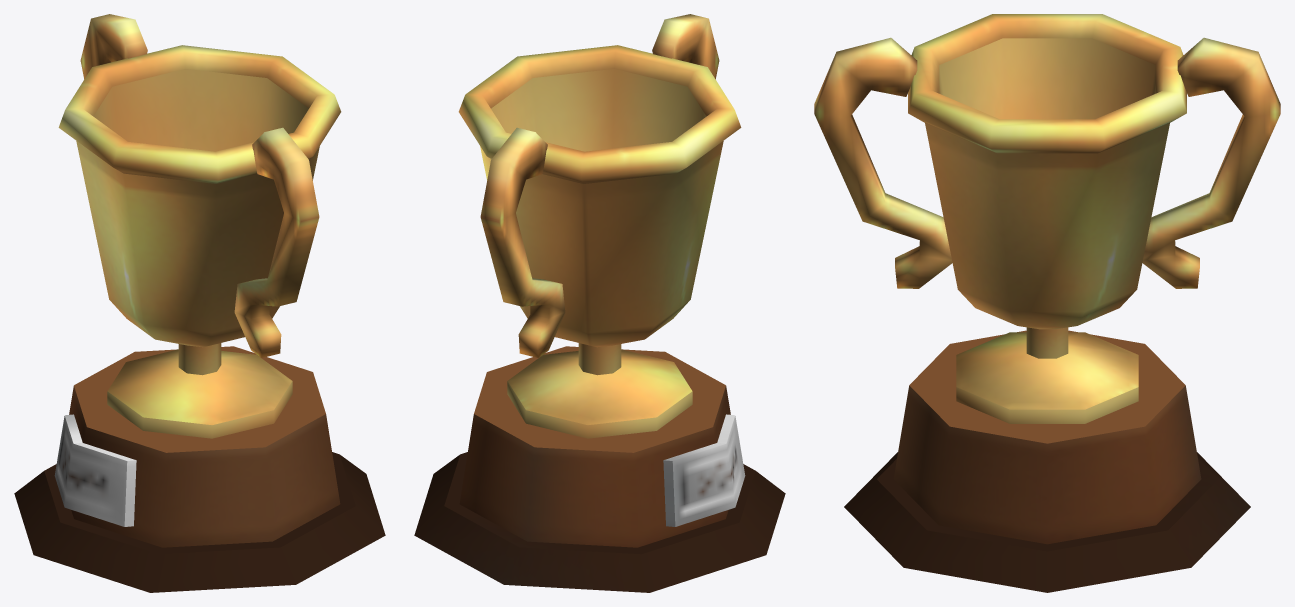
File: trophy.FBX
3 views of the same model, side by side, from view 1: azimuth 30°, elevation 25°; view 2: azimuth 150°, elevation 25°; view 3: azimuth 270°, elevation 25° (orthographic). The views are drawn at different scales.
Visible parts, largest first — view 1: trophy; view 2: trophy; view 3: trophy.
Boxes of the visible parts, x1,y1,x2,y2 form: trophy: [14, 14, 385, 592]; trophy: [414, 14, 785, 592]; trophy: [814, 14, 1280, 592].
Bounding box in the file's own units: 28.78 × 36.24 × 32.98.
